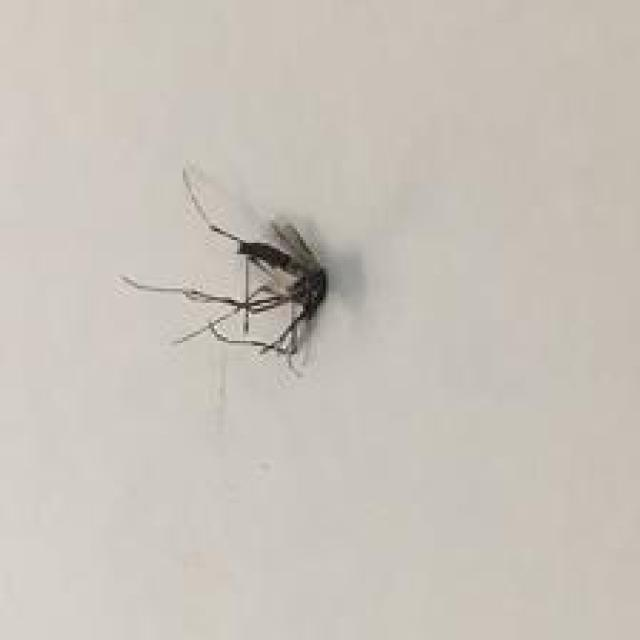Aedes albopictus: (119, 160, 330, 374)
